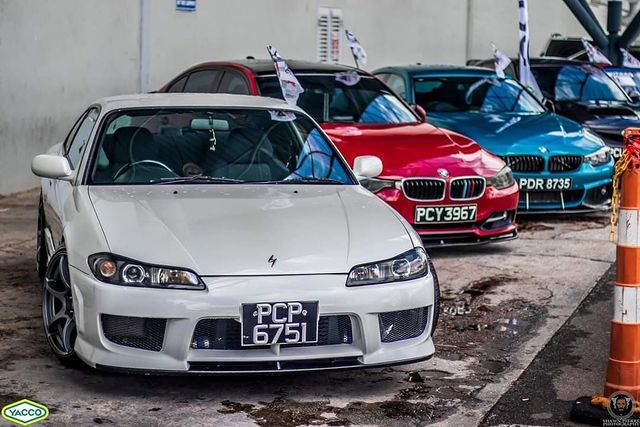License-Plate: (241, 302, 316, 345), (415, 206, 475, 222), (518, 177, 570, 189)
